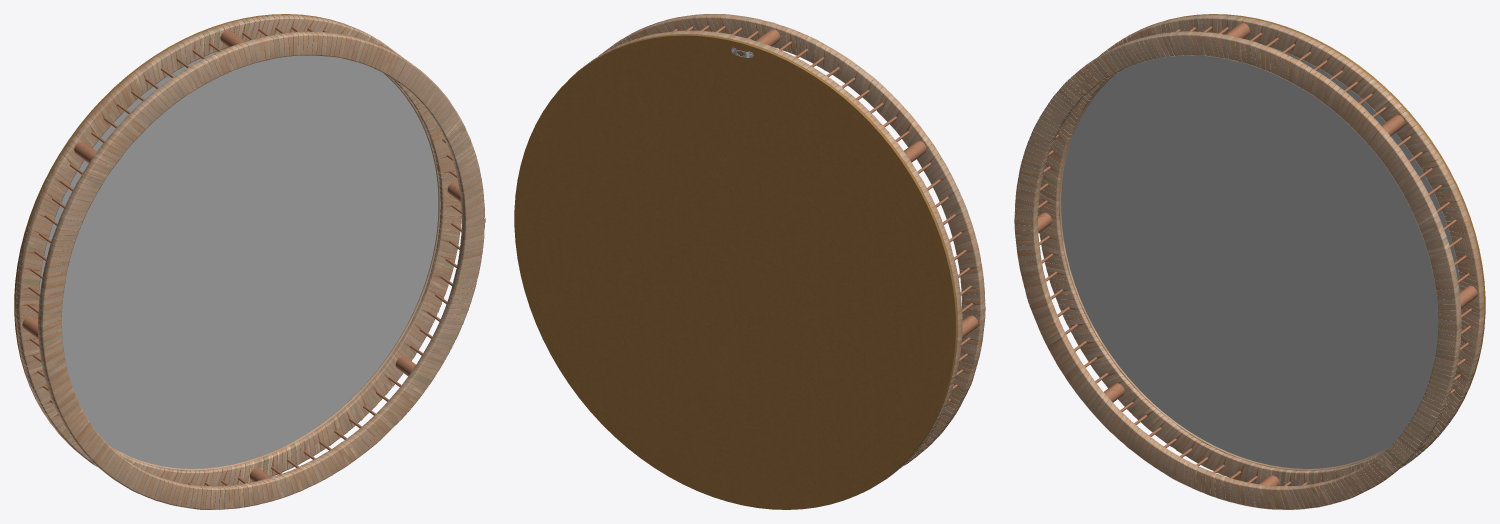
The picture shows the model from 3 angles, left to right: view 1: azimuth 30°, elevation 25°; view 2: azimuth 150°, elevation 25°; view 3: azimuth 330°, elevation 25°; orthographic projection.
Parts seen in each view (by area): view 1: mirror61791; view 2: mirror61791; view 3: mirror61791.
Part boxes in pixels (x1,y1,x2,y2): mirror61791: [14, 14, 485, 509]; mirror61791: [514, 14, 985, 509]; mirror61791: [1014, 14, 1485, 509].
Size of the model in its own units: 0.8038 by 0.8014 by 0.0963.
1 material, 1 textured.
